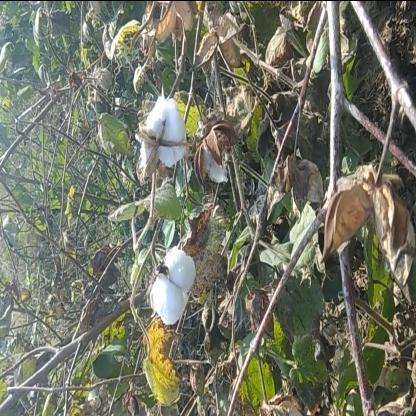cotton_ready: (129, 93, 195, 185), (146, 240, 198, 330)
